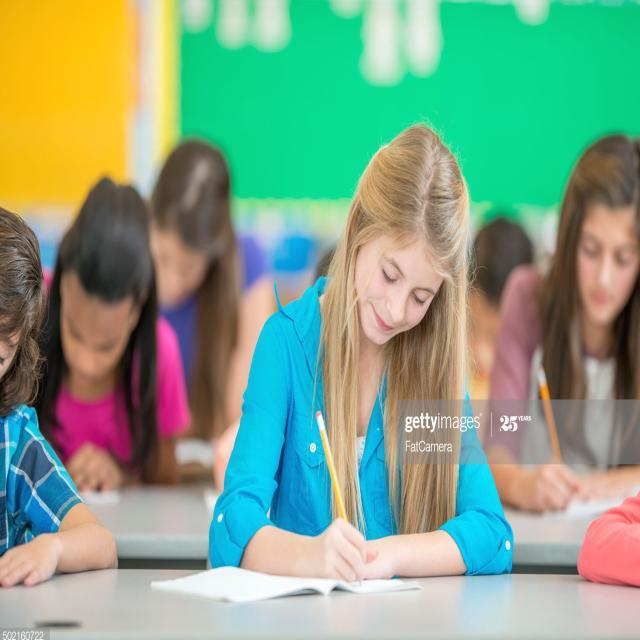good: (180, 110, 532, 633)
